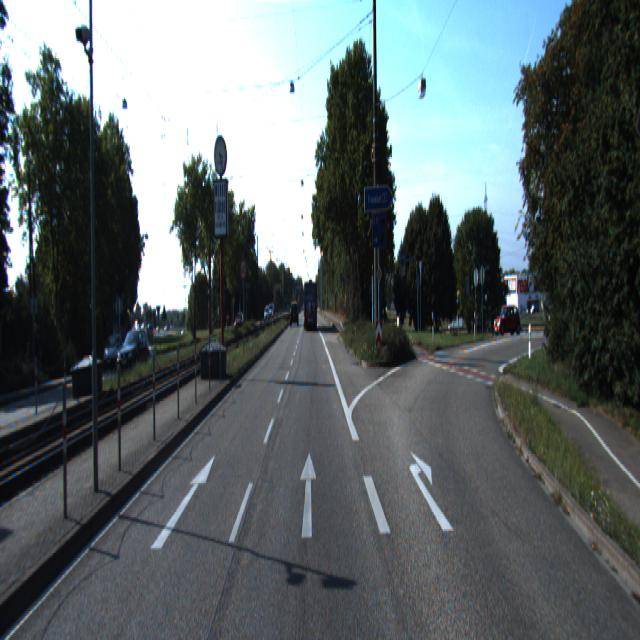Car: (117, 328, 150, 379), (303, 281, 318, 332)
